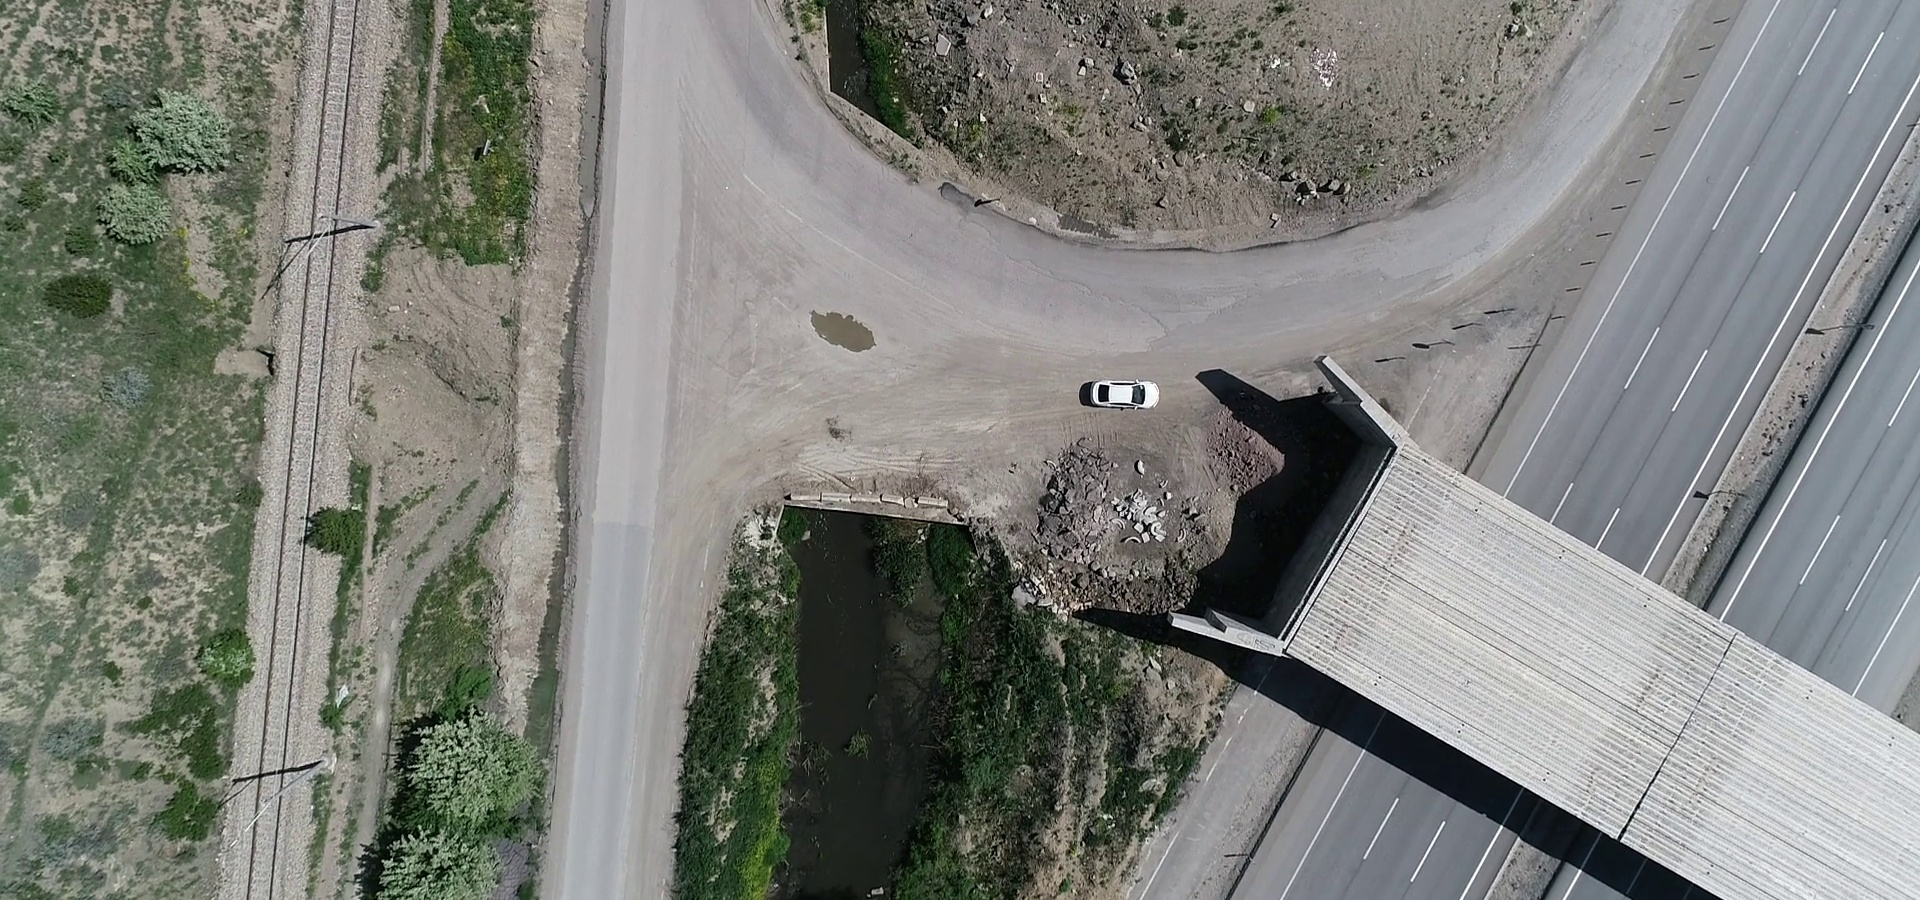arac: (1084, 376, 1169, 413)
